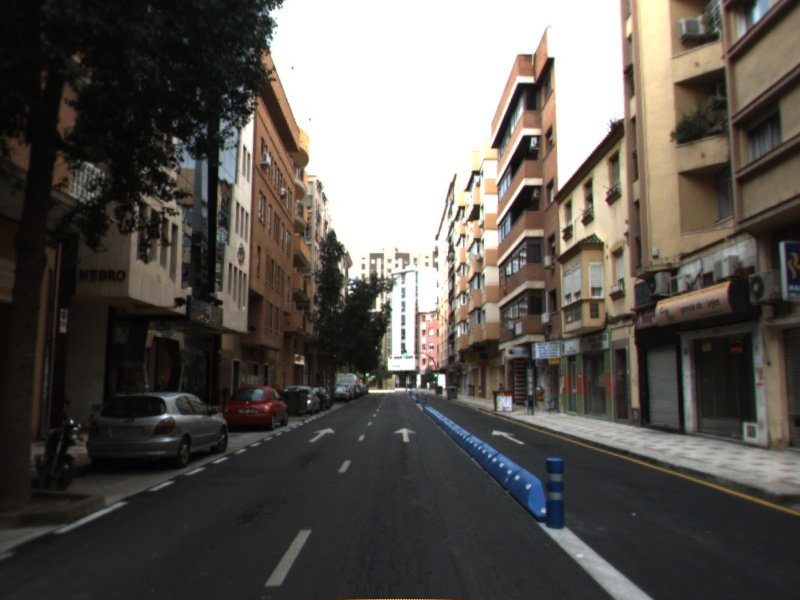STRAIGHT: (490, 428, 526, 446), (307, 426, 337, 444), (392, 426, 418, 444)
